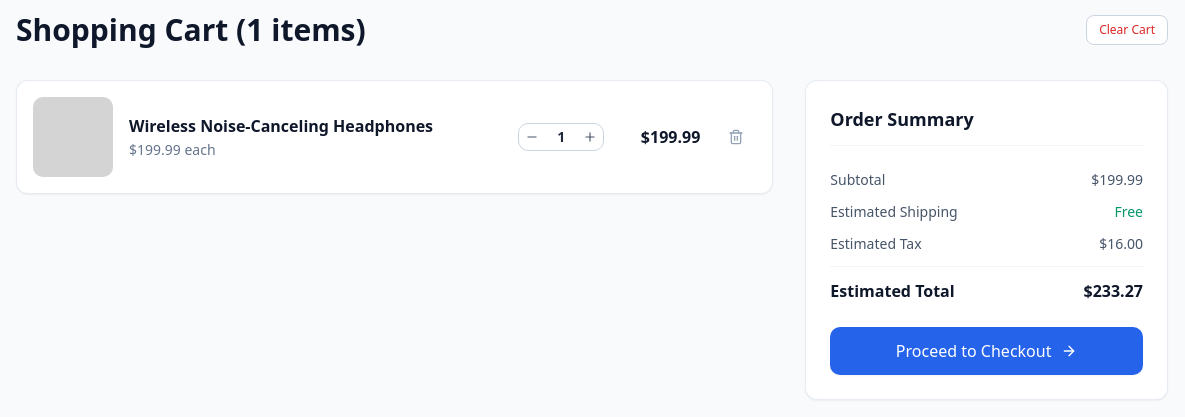
Test: CartPage Component › decrements quantity and removes item when decreased to 0
Click the button named "Decrease quantity of Wireless Noise-Canceling Headphones" at (532, 137), box [519,124,545,150]
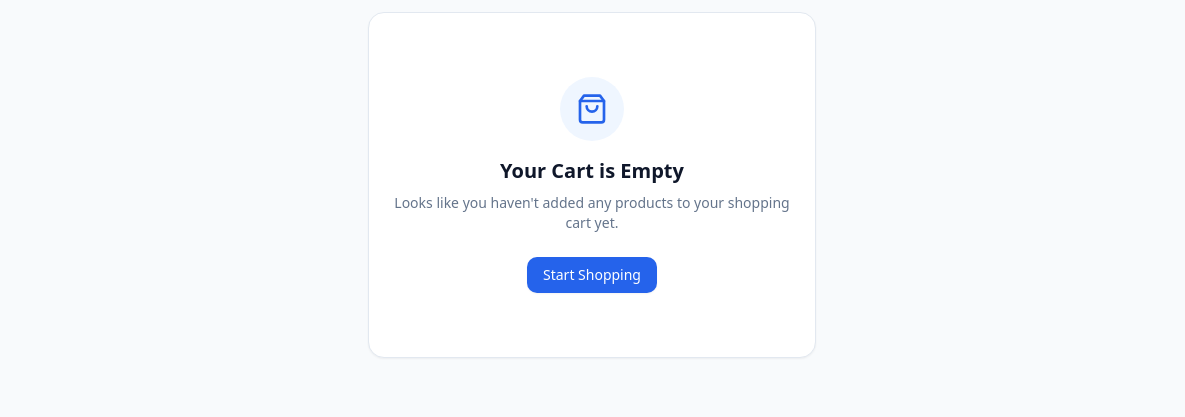
Expected: the element with test id "empty-cart-state" is shown, [368,12,816,358]
